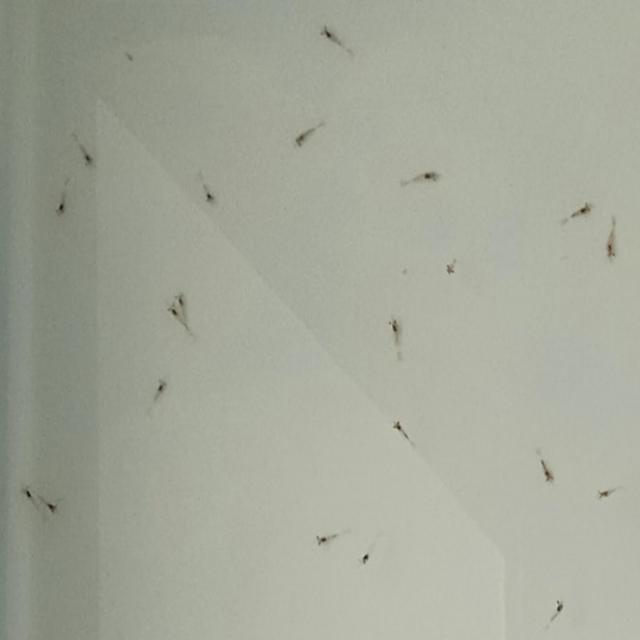shrimp-seed: (316, 20, 340, 46), (601, 233, 621, 261), (571, 199, 594, 223), (292, 126, 316, 148), (52, 192, 72, 218), (537, 460, 557, 484), (200, 184, 220, 206), (386, 316, 406, 338), (354, 547, 374, 569), (152, 375, 170, 399), (80, 146, 96, 170), (421, 166, 442, 184), (43, 498, 61, 516), (552, 596, 568, 616), (165, 302, 181, 321), (18, 482, 34, 501), (393, 418, 408, 438), (595, 486, 611, 504), (314, 531, 330, 549), (172, 290, 186, 306)
